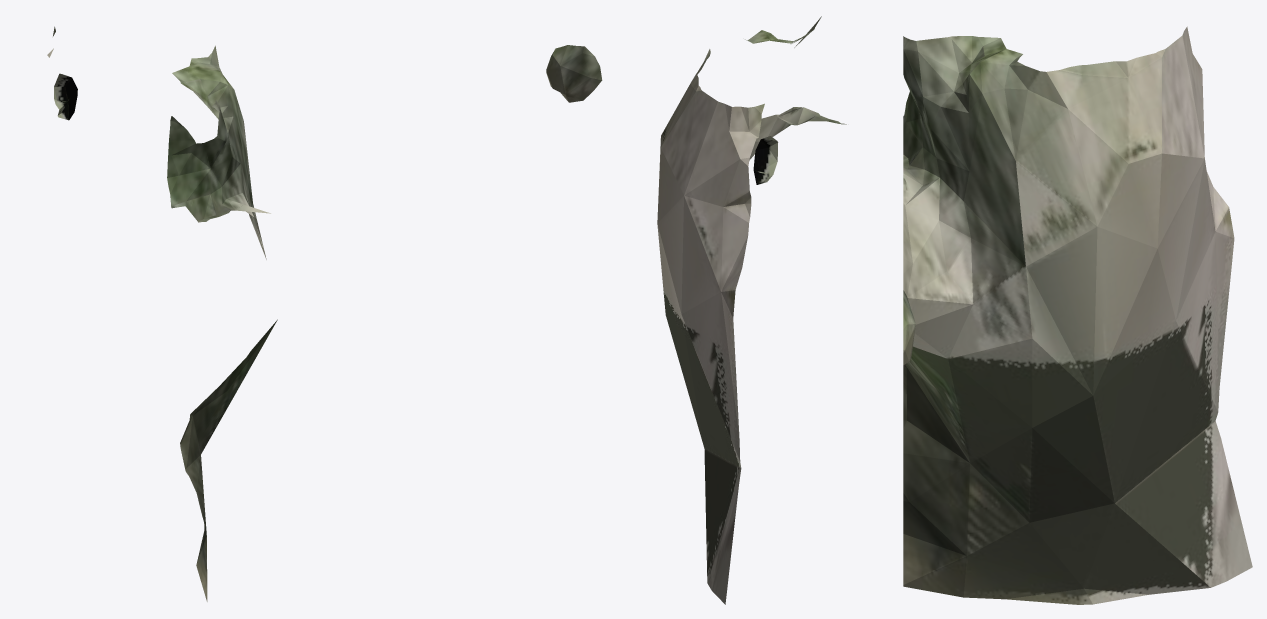
3 views of the same model, side by side, from view 1: azimuth 30°, elevation 25°; view 2: azimuth 150°, elevation 25°; view 3: azimuth 270°, elevation 25° (orthographic). The views are drawn at different scales.
Size of the model in its own units: 4.29 by 5.9 by 3.38.
2 materials, 2 textured.
